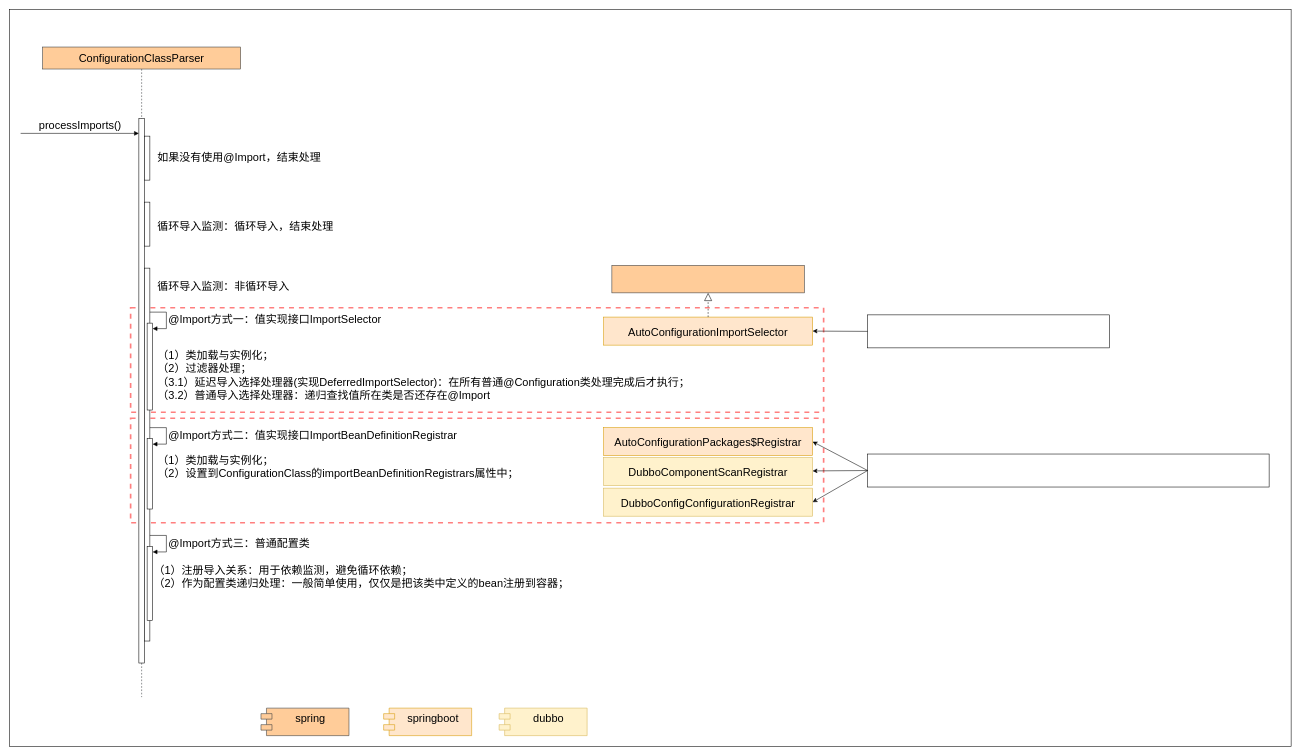
Image size: 1301x756. Some labels were removed from this diagram. Here are the shapes that lost their labels. From the top down, the centre of each, then its label:
At [707,279]: "«interface» DeferredImportSelector".
At [988,331]: "1.后续ConfigurationClassParser#parse中使用".
At [1068,470]: "2.后续ConfigurationClassBeanDefinitionReader#loadBeanDefinitions中使用".
